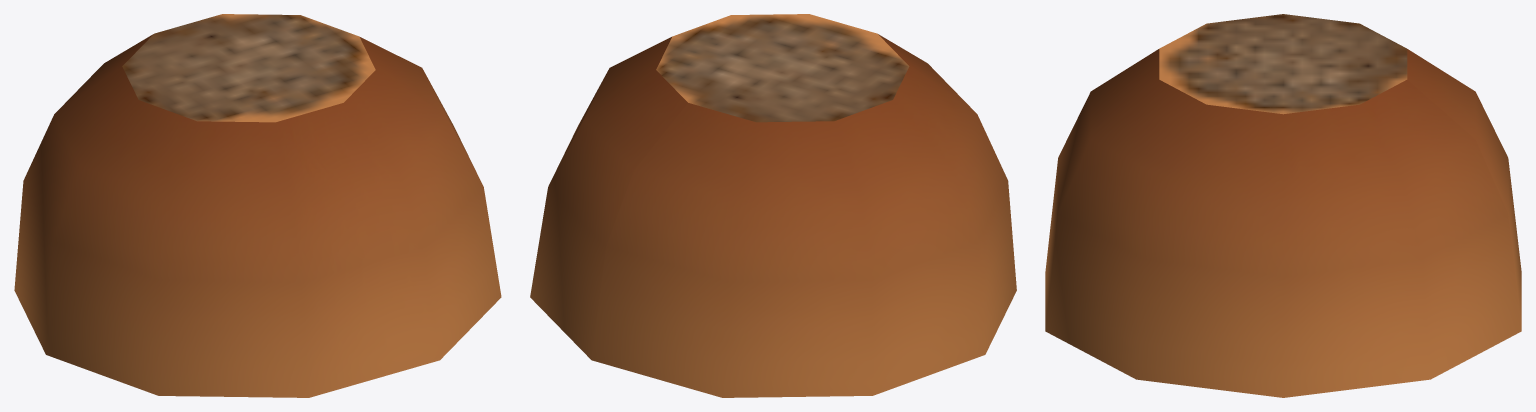
File: H_Bowl_maccheese.fbx
3 renders of one model, left to right at view 1: azimuth 30°, elevation 25°; view 2: azimuth 150°, elevation 25°; view 3: azimuth 270°, elevation 25°, orthographic. The views are drawn at different scales.
Parts seen in each view (by area): view 1: BowlSorbet; view 2: BowlSorbet; view 3: BowlSorbet.
Boxes of the visible parts, x1,y1,x2,y2 form: BowlSorbet: [14, 14, 501, 397]; BowlSorbet: [530, 14, 1016, 397]; BowlSorbet: [1045, 14, 1521, 397].
Size of the model in its own units: 27.46 by 14.97 by 26.14.
